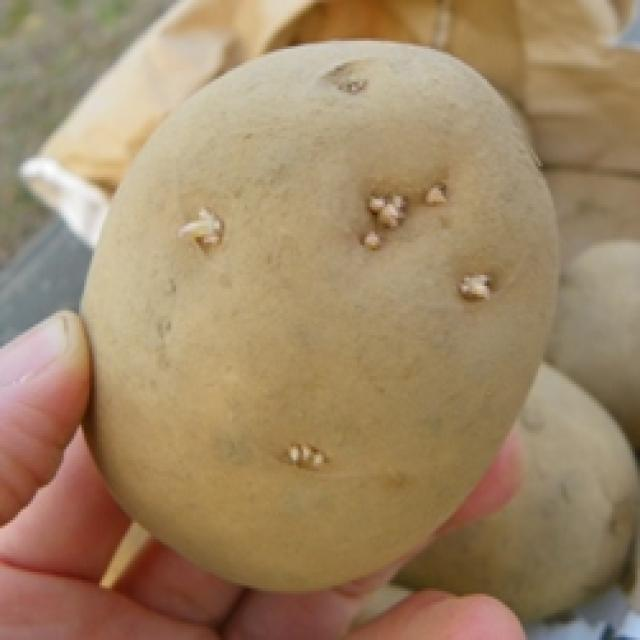potato: (79, 41, 558, 591)
